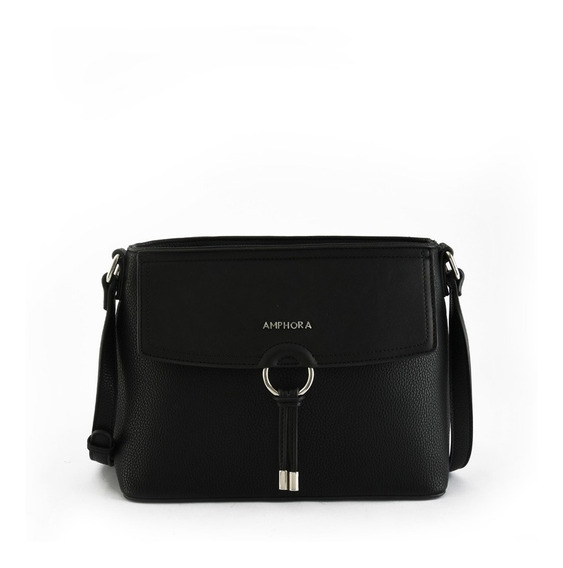cartera: (86, 235, 474, 504)
